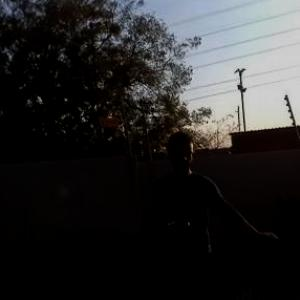follow: (143, 124, 281, 299)
